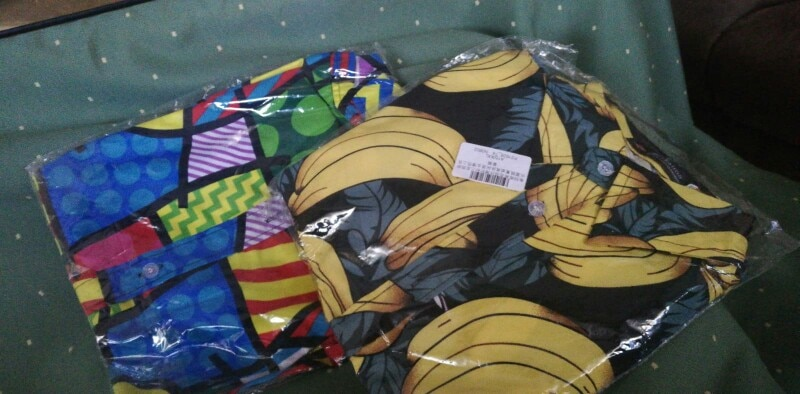shirts: (32, 38, 767, 394)
